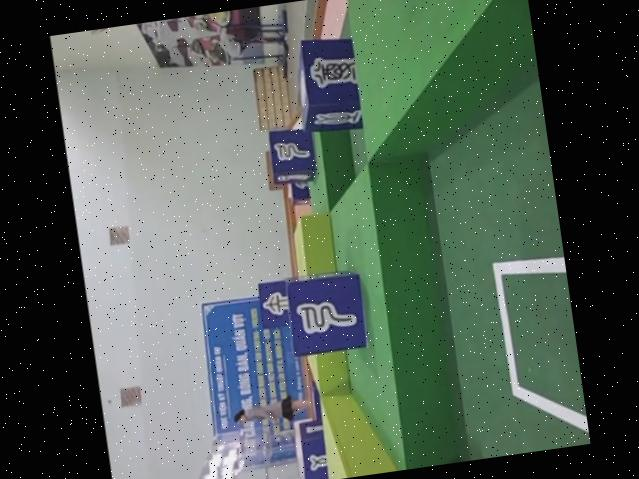R2 Fake Blue: (282, 269, 372, 360), (291, 33, 366, 137), (266, 122, 319, 184), (256, 277, 292, 328)
R2 Real Blue: (296, 415, 332, 479)
